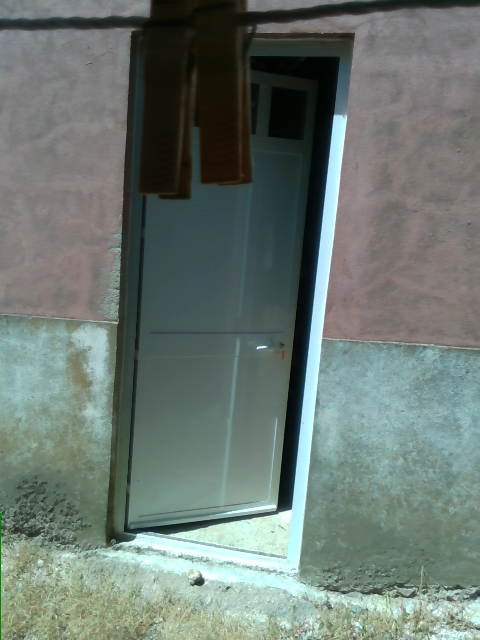semi: (108, 33, 356, 567)
